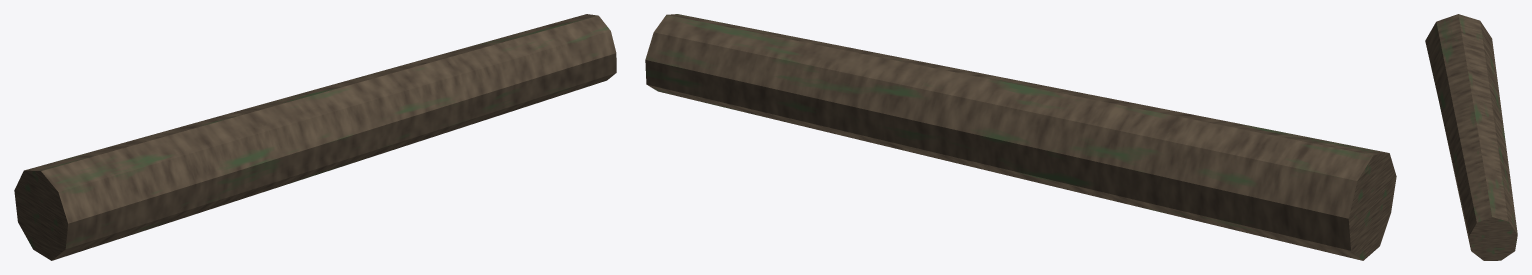
Rendered from detail_log.glb.
3 views of the same model, side by side, from view 1: azimuth 30°, elevation 25°; view 2: azimuth 150°, elevation 25°; view 3: azimuth 270°, elevation 25° (orthographic). The views are drawn at different scales.
Visible parts, largest first — view 1: Cone; view 2: Cone; view 3: Cone.
Part boxes in pixels (bbox=[...]): Cone: bbox=[14, 14, 616, 260]; Cone: bbox=[645, 14, 1396, 260]; Cone: bbox=[1425, 14, 1517, 260].
Bounding box in the file's own units: 4.24 × 0.5834 × 0.8204.
Materials: 1 (1 with a texture image).
